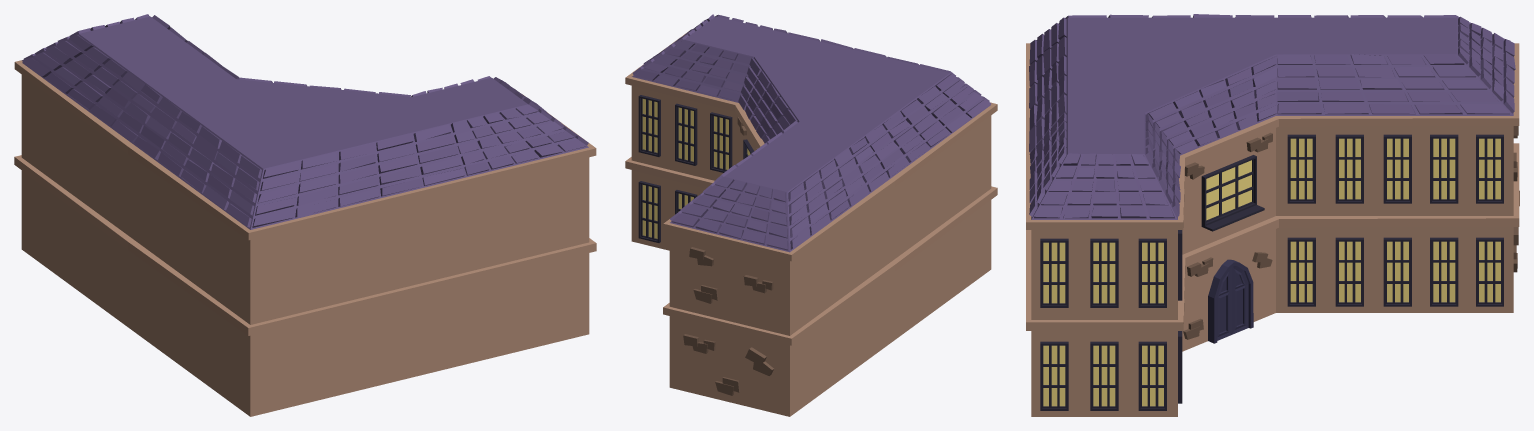
The model's file is Lerngebäude.fbx.
3 views of the same model, side by side, from view 1: azimuth 30°, elevation 25°; view 2: azimuth 150°, elevation 25°; view 3: azimuth 270°, elevation 25° (orthographic). The views are drawn at different scales.
Parts seen in each view (by area): view 1: Lerngebäude; view 2: Lerngebäude; view 3: Lerngebäude.
Boxes of the visible parts, left/top/right/bottom form: Lerngebäude: left=14, top=14, right=596, bottom=416; Lerngebäude: left=625, top=14, right=997, bottom=416; Lerngebäude: left=1026, top=14, right=1519, bottom=416.
Size of the model in its own units: 3512 by 2208 by 4071.
